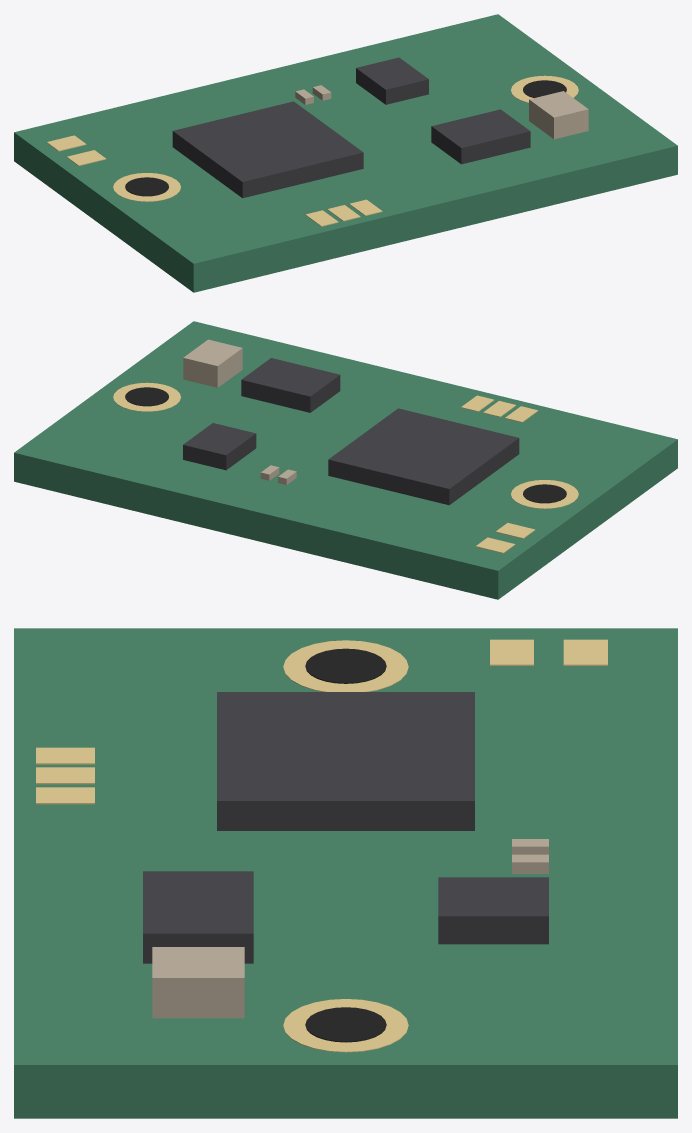
File: board.glb
3 views of the same model, one above another, from view 1: azimuth 30°, elevation 25°; view 2: azimuth 150°, elevation 25°; view 3: azimuth 270°, elevation 25° (orthographic). The views are drawn at different scales.
Visible parts, largest first — view 1: substrate, u1, u3, u2, l1, hole_rims, holes, pad_swd; view 2: substrate, u1, u3, u2, l1, hole_rims, holes, pad_swd; view 3: substrate, u1, u3, u2, l1, hole_rims, holes, pad_swd, pad_power_in, pad_power_gnd, r4.
Boxes of the visible parts, left/top/right/bottom form: substrate: left=14, top=14, right=677, bottom=292; u1: left=172, top=101, right=363, bottom=198; u3: left=431, top=109, right=530, bottom=164; u2: left=356, top=57, right=428, bottom=104; l1: left=529, top=91, right=588, bottom=139; hole_rims: left=113, top=75, right=578, bottom=201; holes: left=125, top=80, right=566, bottom=196; pad_swd: left=305, top=199, right=382, bottom=226; substrate: left=14, top=321, right=677, bottom=599; u1: left=328, top=408, right=519, bottom=505; u3: left=241, top=358, right=340, bottom=412; u2: left=183, top=423, right=256, bottom=470; l1: left=183, top=339, right=242, bottom=387; hole_rims: left=113, top=382, right=578, bottom=508; holes: left=125, top=387, right=566, bottom=503; pad_swd: left=461, top=395, right=538, bottom=422; substrate: left=14, top=628, right=677, bottom=1118; u1: left=217, top=692, right=474, bottom=830; u3: left=143, top=871, right=253, bottom=963; u2: left=438, top=877, right=548, bottom=944; l1: left=152, top=947, right=244, bottom=1018; hole_rims: left=283, top=640, right=408, bottom=1052; holes: left=305, top=648, right=386, bottom=1042; pad_swd: left=36, top=747, right=94, bottom=804; pad_power_in: left=563, top=639, right=607, bottom=665; pad_power_gnd: left=490, top=639, right=533, bottom=665; r4: left=512, top=854, right=548, bottom=873.
Size of the model in its own units: 0.028 by 0.00315 by 0.018.
